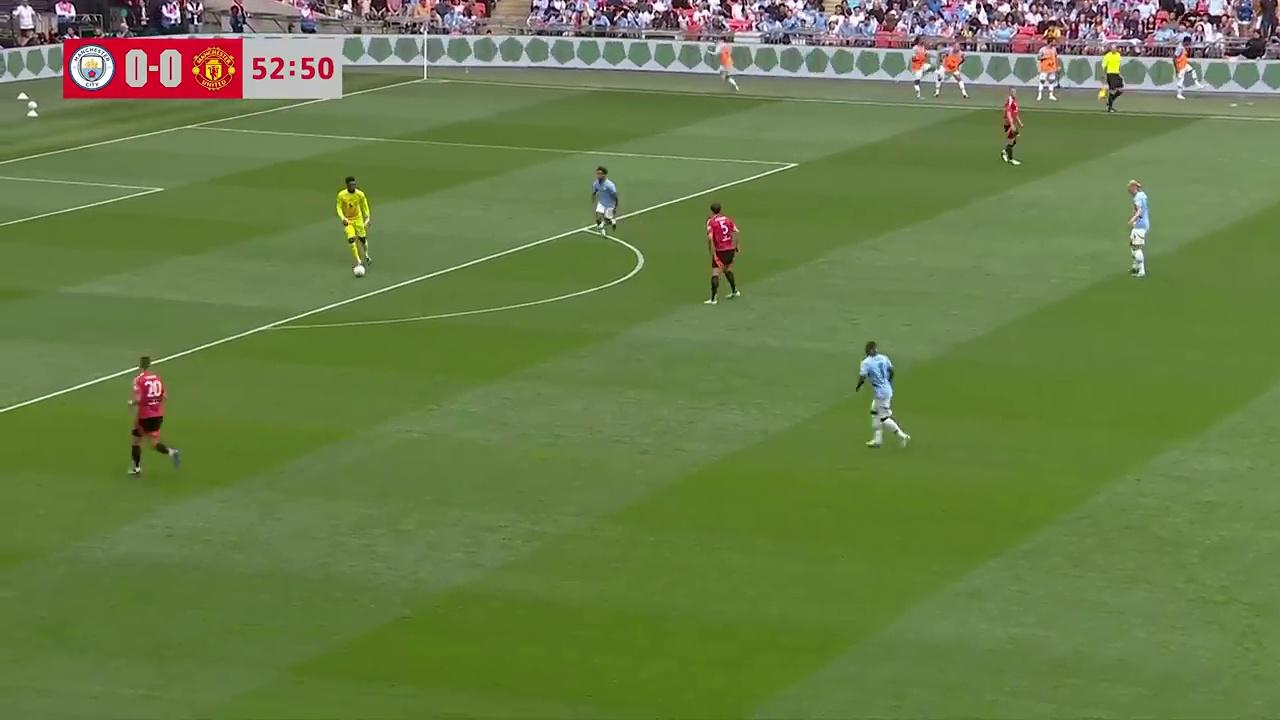ball: (352, 260, 365, 278)
player: (126, 359, 182, 477), (855, 341, 911, 449), (336, 175, 372, 277), (706, 203, 741, 302), (1127, 183, 1149, 277), (591, 166, 619, 237), (1001, 92, 1023, 163)
referee: (1099, 53, 1122, 113)
